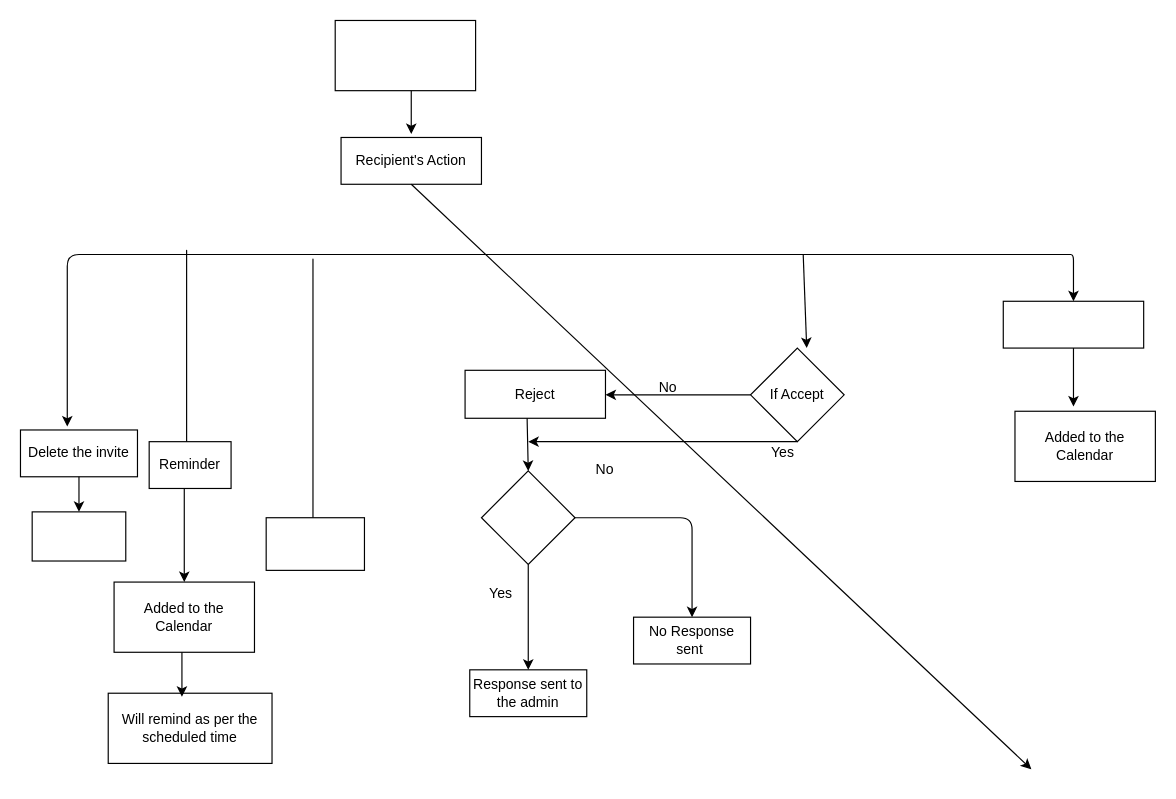
This 1176x799 diagram has some shape labels left out. Each missing label, with the centre of its shape:
Forward the invite to mutual friend: point 314,543
Hold: point 1073,324
Invitation notification will come on Peers device.: point 405,55
Invite deleted: point 78,536
Response: point 527,517
